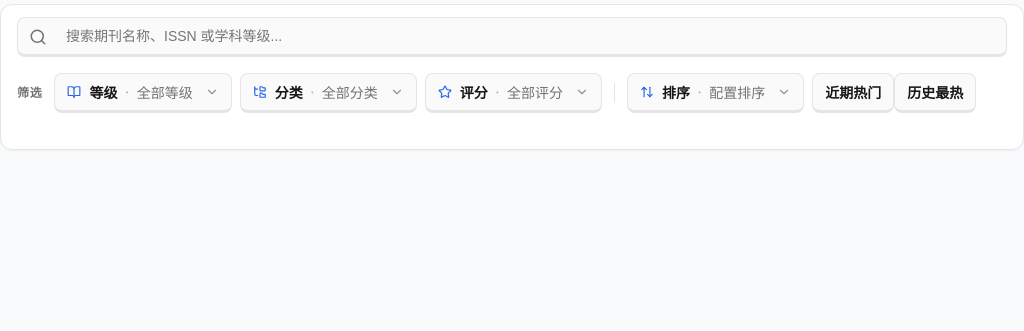
Scenario: SearchAndFilter › Rating Filter › should open rating dropdown when clicked
Step 1. Click the text "全部评分" → x=535, y=92, box [507,82,563,102]
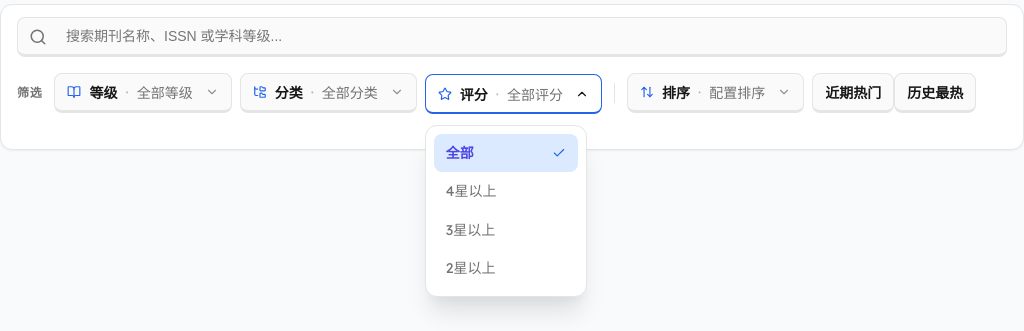
expect the text "4星以上" is shown: met, box [446,180,497,203]
expect the text "3星以上" is shown: met, box [446,219,495,241]
expect the text "2星以上" is shown: met, box [446,257,496,280]
